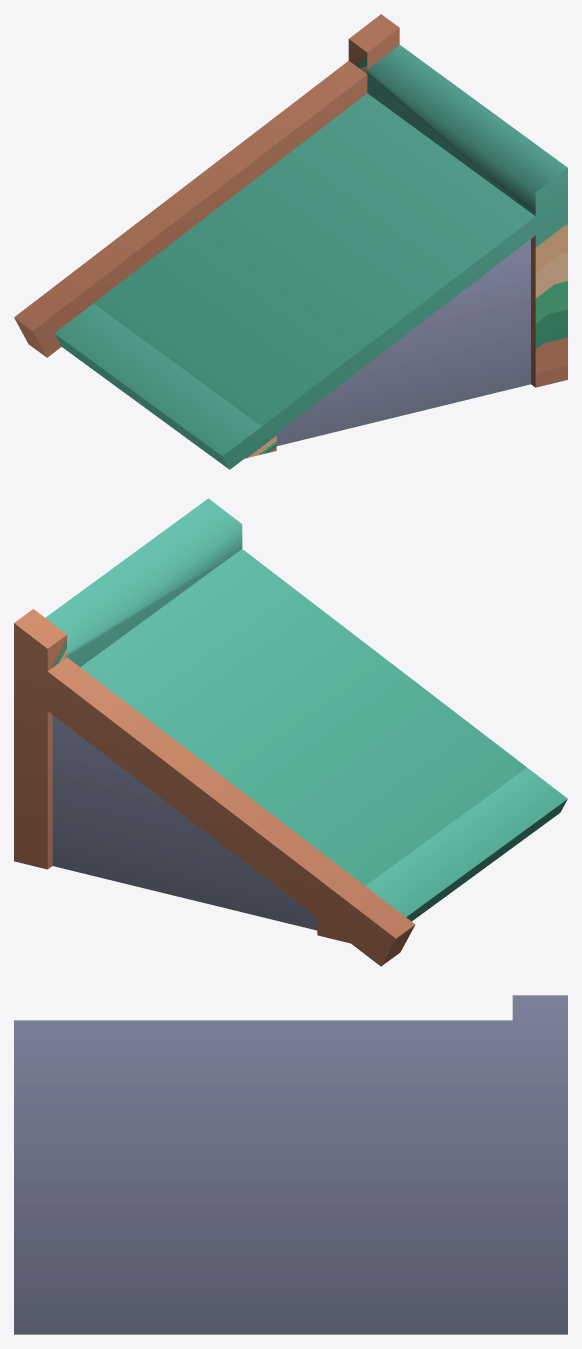
Rendered from roof-left.glb.
3 renders of one model, top to bottom at view 1: azimuth 30°, elevation 25°; view 2: azimuth 150°, elevation 25°; view 3: azimuth 270°, elevation 25°, orthographic. The views are drawn at different scales.
Parts seen in each view (by area): view 1: roof-left; view 2: roof-left; view 3: roof-left.
Boxes of the visible parts, x1,y1,x2,y2 form: roof-left: (14, 14, 567, 469); roof-left: (14, 498, 567, 966); roof-left: (14, 995, 567, 1334).
Size of the model in its own units: 1.13 by 0.7206 by 1.
1 material, 1 textured.
